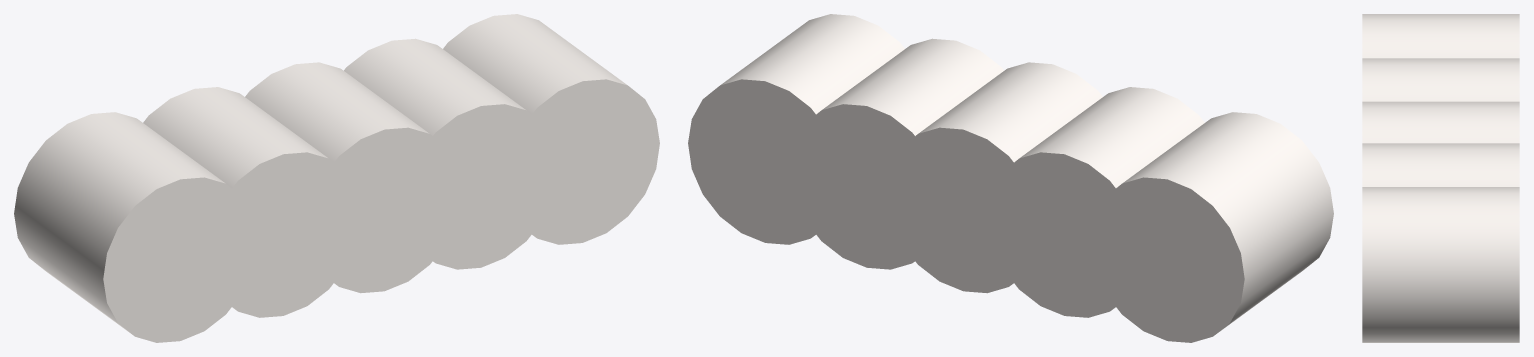
The model's file is Cloud_scaff.fbx.
3 renders of one model, left to right at view 1: azimuth 30°, elevation 25°; view 2: azimuth 150°, elevation 25°; view 3: azimuth 270°, elevation 25°, orthographic. The views are drawn at different scales.
Visible parts, largest first — view 1: pCylinder6; view 2: pCylinder6; view 3: pCylinder6.
Boxes of the visible parts, left/top/right/bottom form: pCylinder6: left=14, top=14, right=659, bottom=342; pCylinder6: left=688, top=14, right=1333, bottom=342; pCylinder6: left=1362, top=14, right=1519, bottom=342.
Size of the model in its own units: 7.2 by 2 by 2.
1 material, 1 textured.
